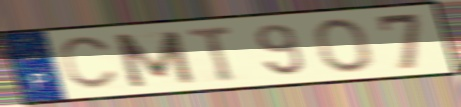7: (373, 13, 427, 72)
9: (253, 23, 307, 78)
C: (57, 34, 122, 92)
M: (110, 29, 199, 90)
O: (312, 17, 376, 74)
T: (184, 23, 240, 84)
